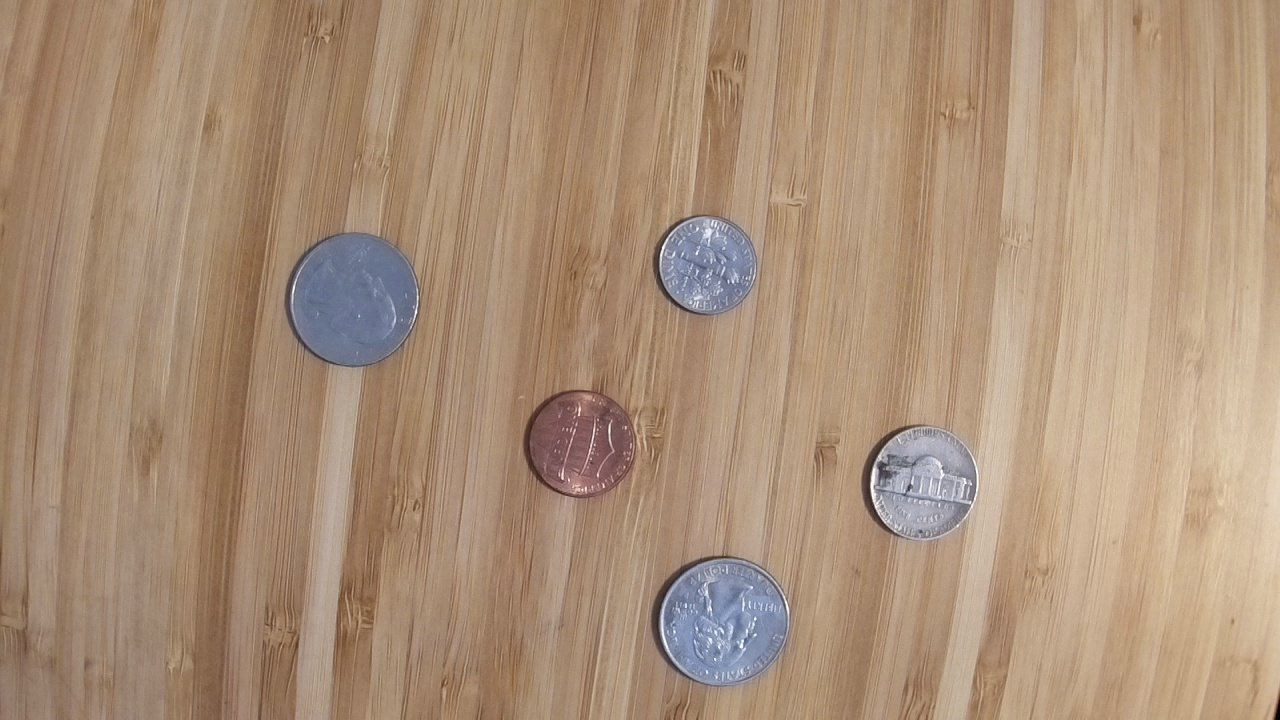dime: (652, 213, 762, 317)
nickel: (861, 423, 981, 543)
penny: (521, 387, 641, 499)
quarter: (281, 228, 423, 370), (656, 552, 788, 690)
